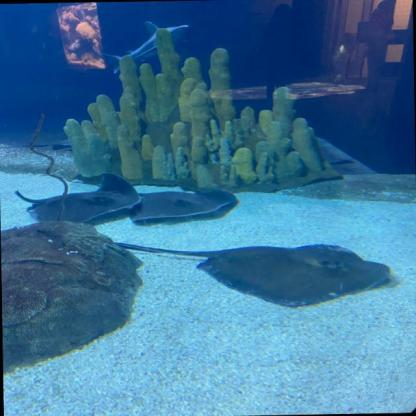shark: (106, 22, 188, 75)
stingray: (200, 242, 393, 306), (25, 169, 151, 226), (127, 184, 236, 228)
